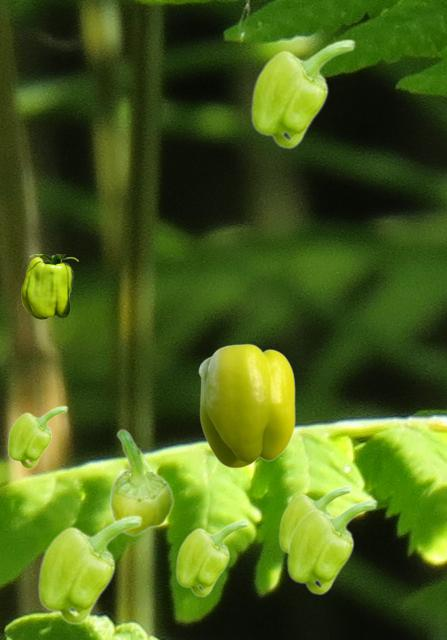bell_pepper: (198, 343, 294, 467), (37, 514, 142, 624), (250, 38, 355, 148), (286, 498, 377, 594), (109, 429, 173, 535), (175, 519, 248, 596), (278, 485, 351, 553), (7, 405, 67, 468), (21, 254, 77, 318)
